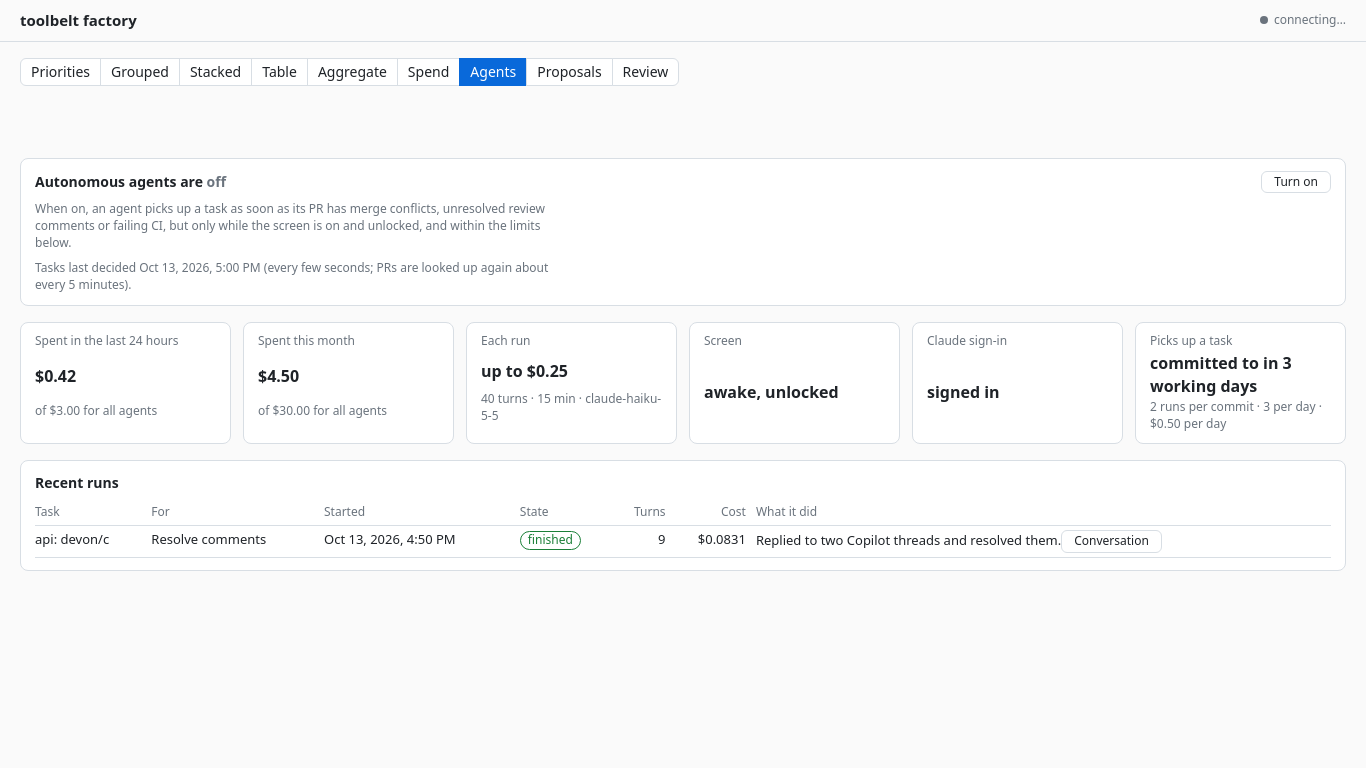
Test: the agents view › the switch posts the new value and shows the result
The width and height of the screenshot is (1366, 768).
Click the button "Turn on": (1296, 182) [1261, 171, 1331, 193]
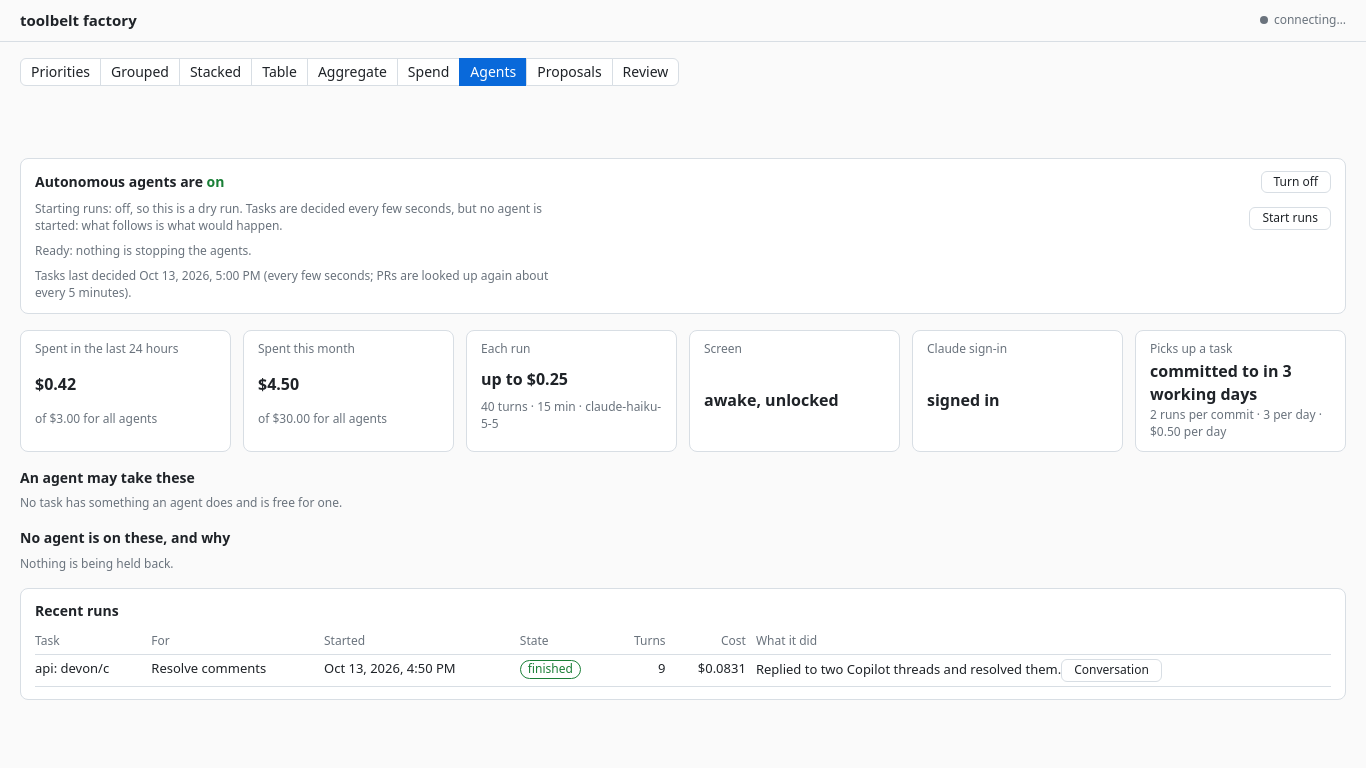
Check: the heading "Autonomous agents are on" is shown, box [35, 172, 224, 192]
